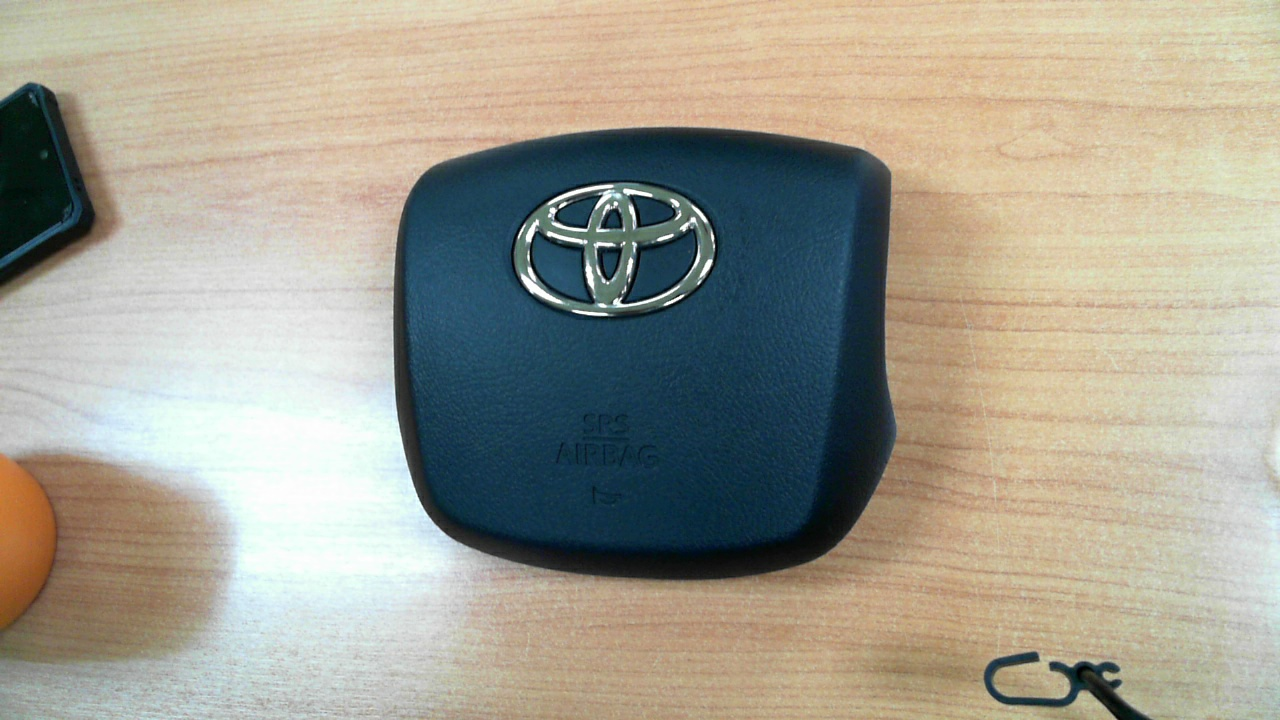Airbag: (359, 93, 928, 615)
